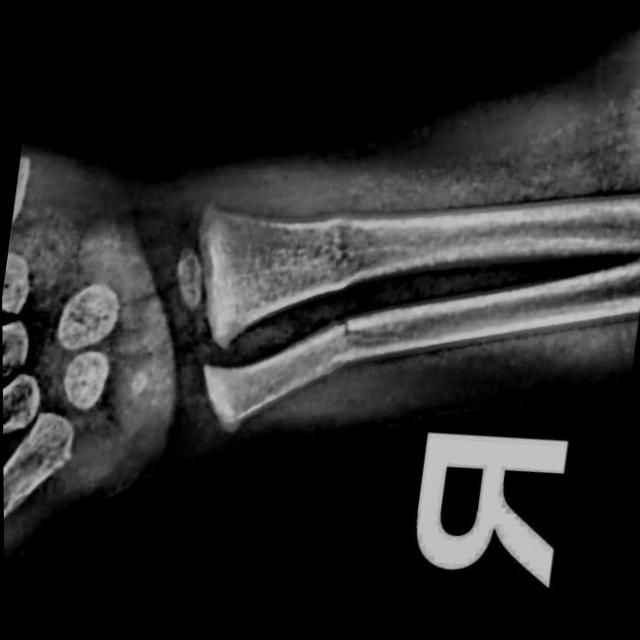fracture: (317, 214, 359, 283), (330, 317, 356, 348)
